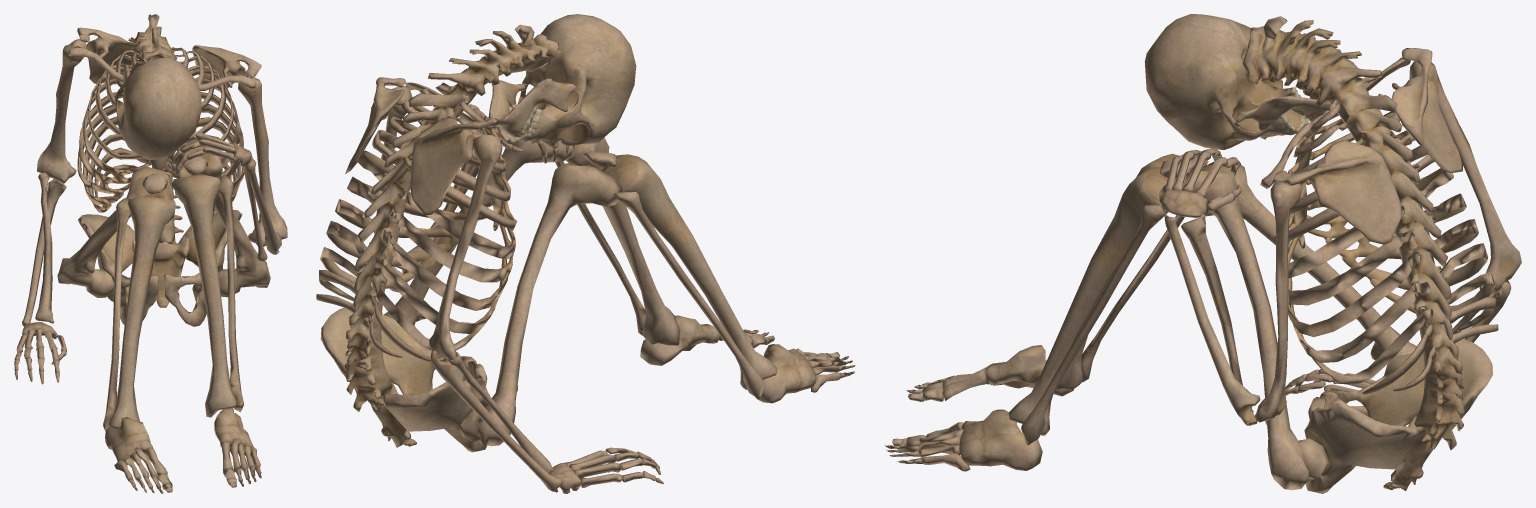
3 renders of one model, left to right at view 1: azimuth 30°, elevation 25°; view 2: azimuth 150°, elevation 25°; view 3: azimuth 270°, elevation 25°, orthographic. The views are drawn at different scales.
Visible parts, largest first — view 1: skeleton1; view 2: skeleton1; view 3: skeleton1.
Part boxes in pixels (bbox=[...]): skeleton1: bbox=[14, 14, 287, 493]; skeleton1: bbox=[316, 14, 855, 493]; skeleton1: bbox=[884, 14, 1521, 493].
Size of the model in its own units: 0.0265 by 0.032 by 0.0394.
Materials: 1 (1 with a texture image).
